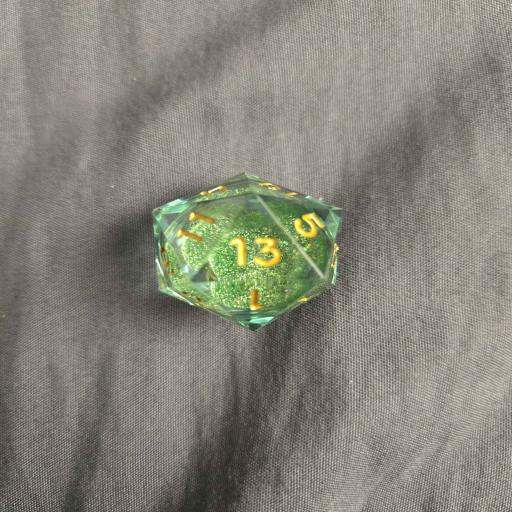twenty sided dice: (152, 172, 344, 331)
